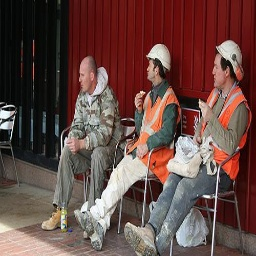helmet: (214, 40, 244, 78), (145, 46, 176, 73)
no-helmet: (75, 54, 101, 84)
no-vest: (74, 86, 118, 168)
person: (180, 42, 253, 215), (58, 52, 119, 249), (118, 46, 181, 185)
vest: (202, 87, 252, 178), (137, 87, 183, 183)
